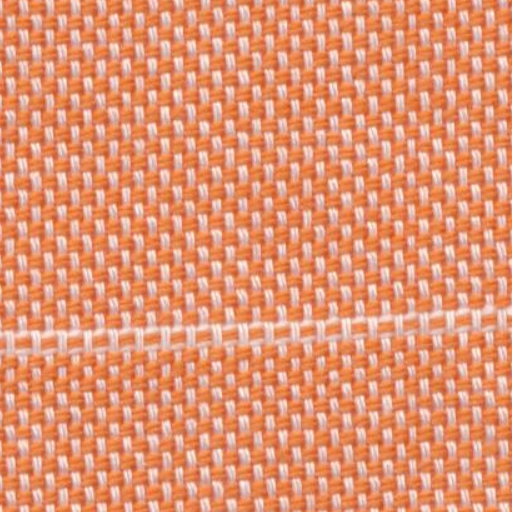TuoSha: (13, 286, 500, 372)
